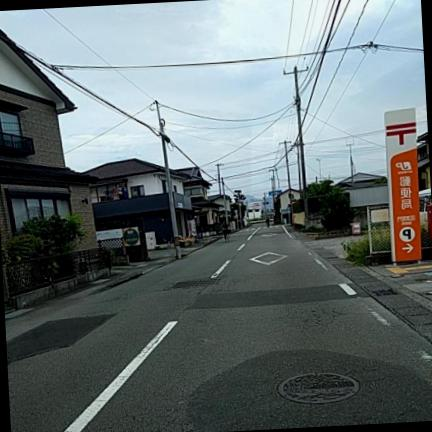Road: (5, 227, 431, 431)
